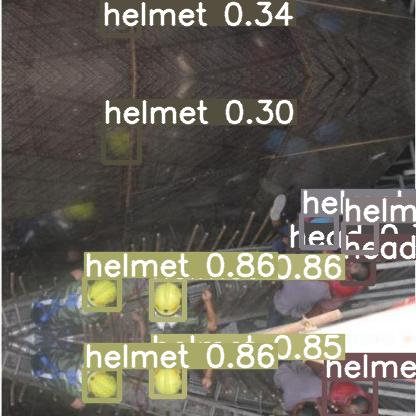head: (288, 248, 319, 277), (342, 259, 373, 283)
helmet: (324, 378, 375, 416), (103, 124, 139, 162), (151, 279, 184, 319), (102, 0, 139, 35), (151, 359, 184, 396), (301, 214, 336, 247), (84, 368, 119, 400), (84, 277, 119, 309), (343, 222, 376, 252)
